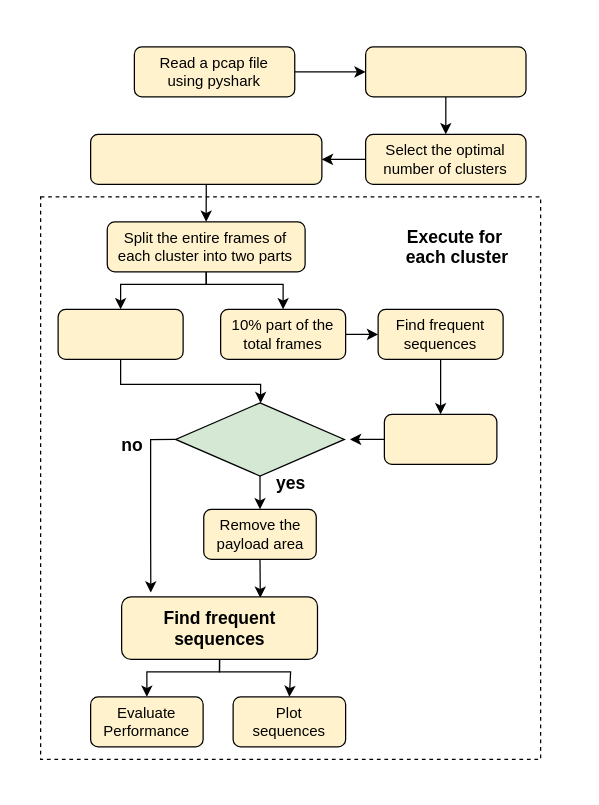
This 599x805 diagram has some shape labels left out. The box of each missing label's shape, as (x1, y1, x2, y2) in pixels:
90% part of the total frames: (57, 308, 183, 359)
Does the payload area exist?: (174, 402, 344, 476)
Extract the raw frame date of each packet: (364, 46, 526, 97)
Identify the payload area: (383, 413, 497, 464)
Perform hierarchical clustering on frames with similar patterns: (89, 133, 322, 184)
